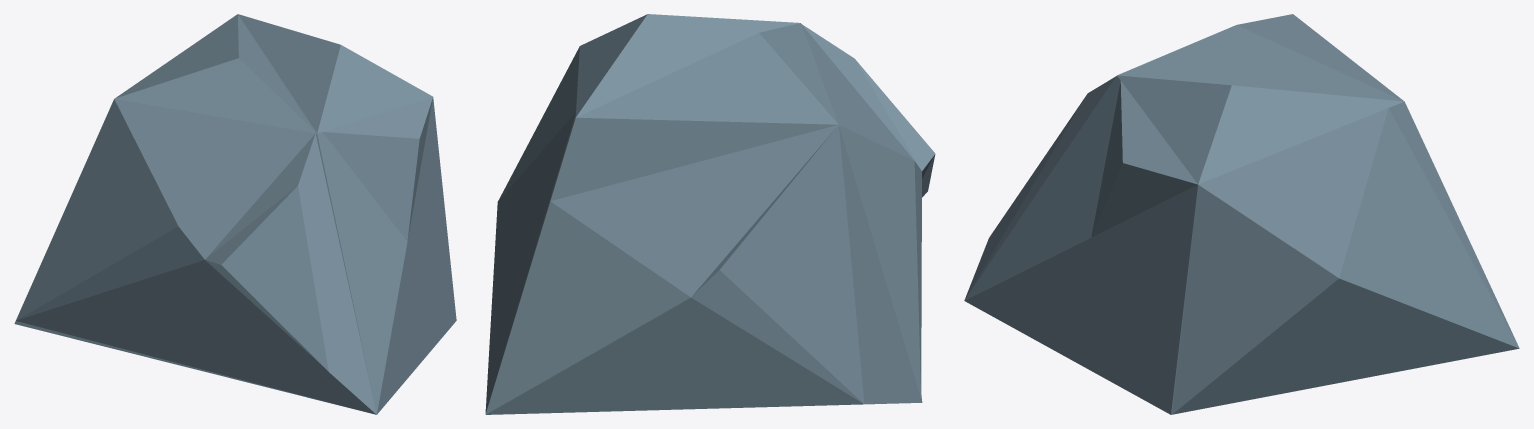
The model's file is stone1.glb.
3 views of the same model, side by side, from view 1: azimuth 30°, elevation 25°; view 2: azimuth 150°, elevation 25°; view 3: azimuth 270°, elevation 25° (orthographic). The views are drawn at different scales.
Parts seen in each view (by area): view 1: part_1_mesh1309878107; view 2: part_1_mesh1309878107; view 3: part_1_mesh1309878107.
Part boxes in pixels (x1=…): part_1_mesh1309878107: x1=14, y1=14, x2=456, y2=414; part_1_mesh1309878107: x1=485, y1=14, x2=935, y2=414; part_1_mesh1309878107: x1=964, y1=14, x2=1519, y2=414.
Size of the model in its own units: 0.134 by 0.0986 by 0.1678.
